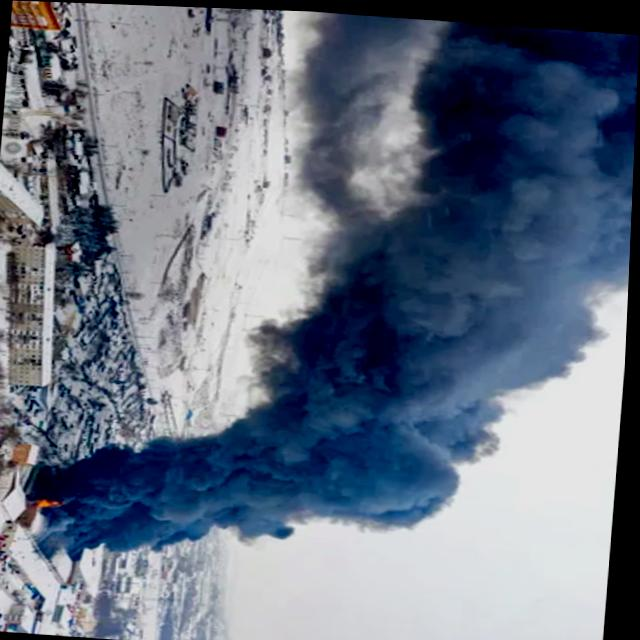Smoke: (39, 2, 640, 585)
